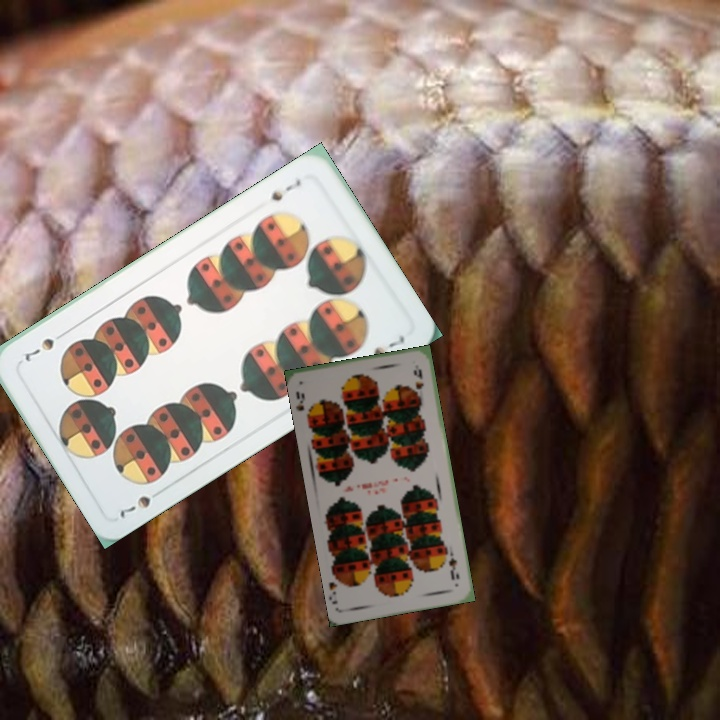S7: (115, 491, 153, 521), (266, 175, 304, 204)
S9: (292, 387, 314, 423), (445, 554, 462, 582)
